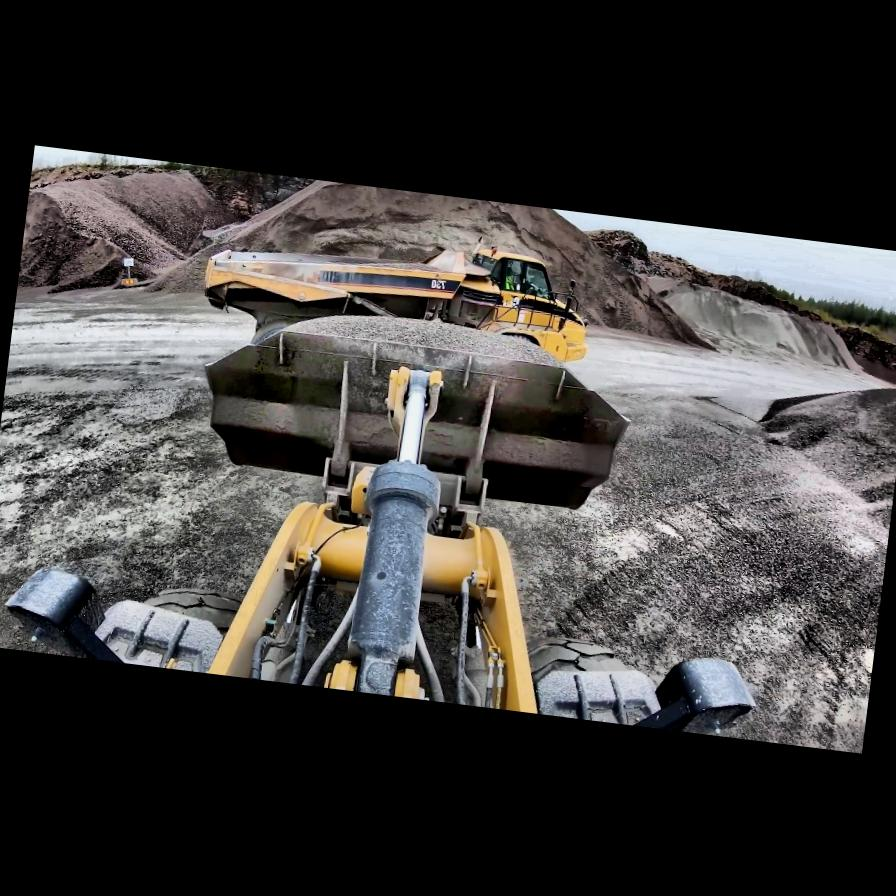anchor: (378, 361, 444, 461)
pile of gravel: (146, 159, 678, 353), (15, 144, 230, 326), (641, 274, 876, 374), (754, 367, 896, 452)
